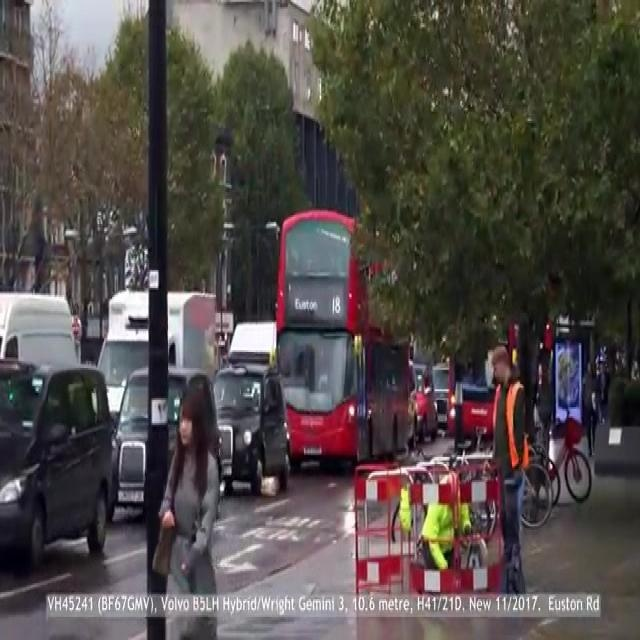Bus: (265, 185, 398, 492), (446, 306, 518, 446)
